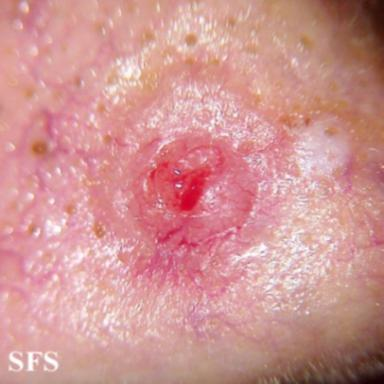basal-cell-carcinoma: (137, 133, 258, 247)
